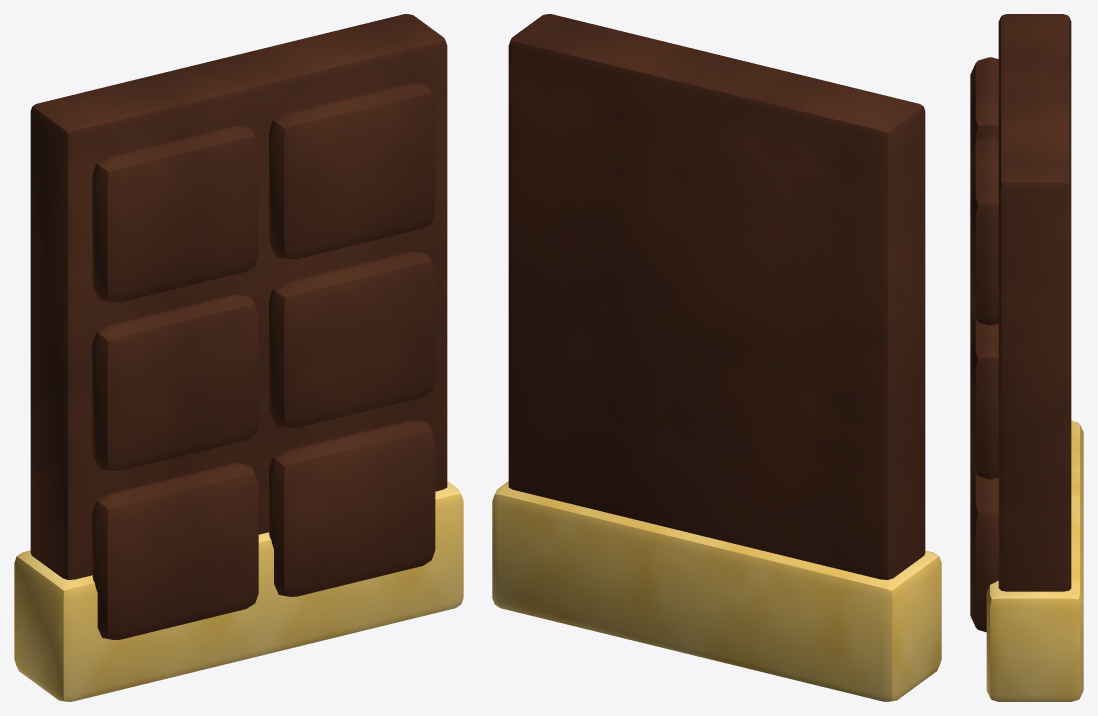
Rendered from GIN_ChocolateBar.fbx.
3 views of the same model, side by side, from view 1: azimuth 30°, elevation 25°; view 2: azimuth 150°, elevation 25°; view 3: azimuth 270°, elevation 25° (orthographic). The views are drawn at different scales.
Parts seen in each view (by area): view 1: GIN_ChocolateBar; view 2: GIN_ChocolateBar; view 3: GIN_ChocolateBar.
Part boxes in pixels (<box>): GIN_ChocolateBar: <box>14,14,463,701</box>; GIN_ChocolateBar: <box>492,14,941,701</box>; GIN_ChocolateBar: <box>970,14,1083,701</box>.
Size of the model in its own units: 1.06 by 1.42 by 0.28.
